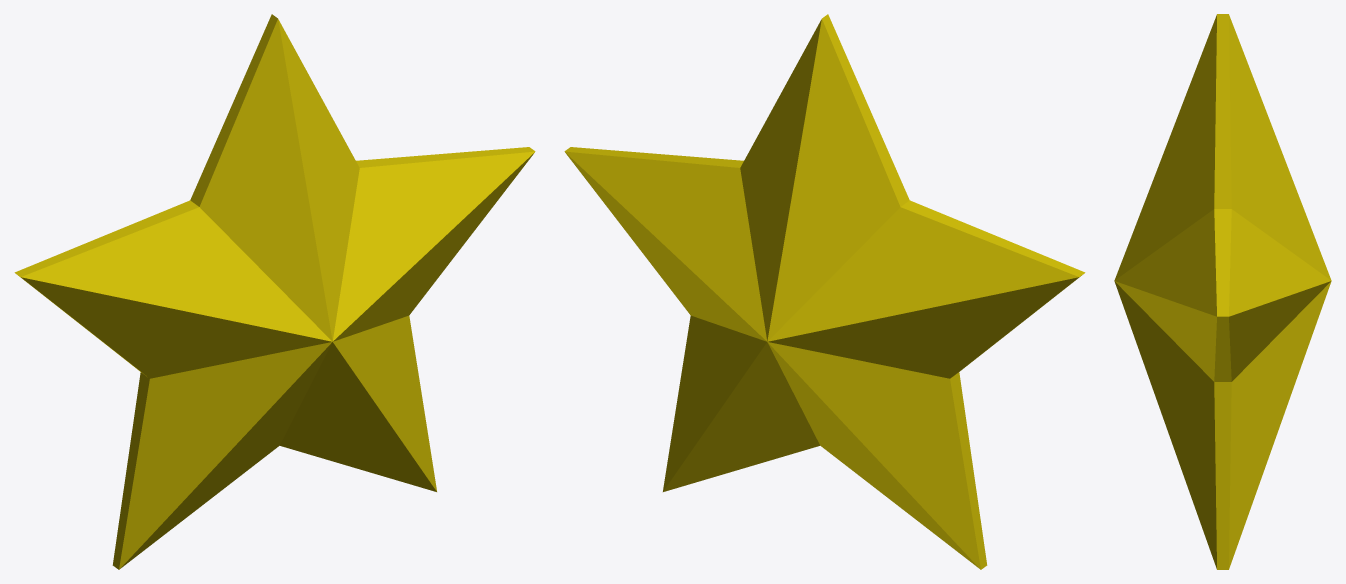
The model's file is Artefakt2.fbx.
The picture shows the model from 3 angles, left to right: view 1: azimuth 30°, elevation 25°; view 2: azimuth 150°, elevation 25°; view 3: azimuth 270°, elevation 25°; orthographic projection. The views are drawn at different scales.
Visible parts, largest first — view 1: Circle; view 2: Circle; view 3: Circle.
Part boxes in pixels (x1=…): Circle: x1=14, y1=14, x2=535, y2=569; Circle: x1=564, y1=14, x2=1085, y2=569; Circle: x1=1114, y1=14, x2=1331, y2=569.
Bounding box in the file's own units: 128 × 122 × 49.76.
